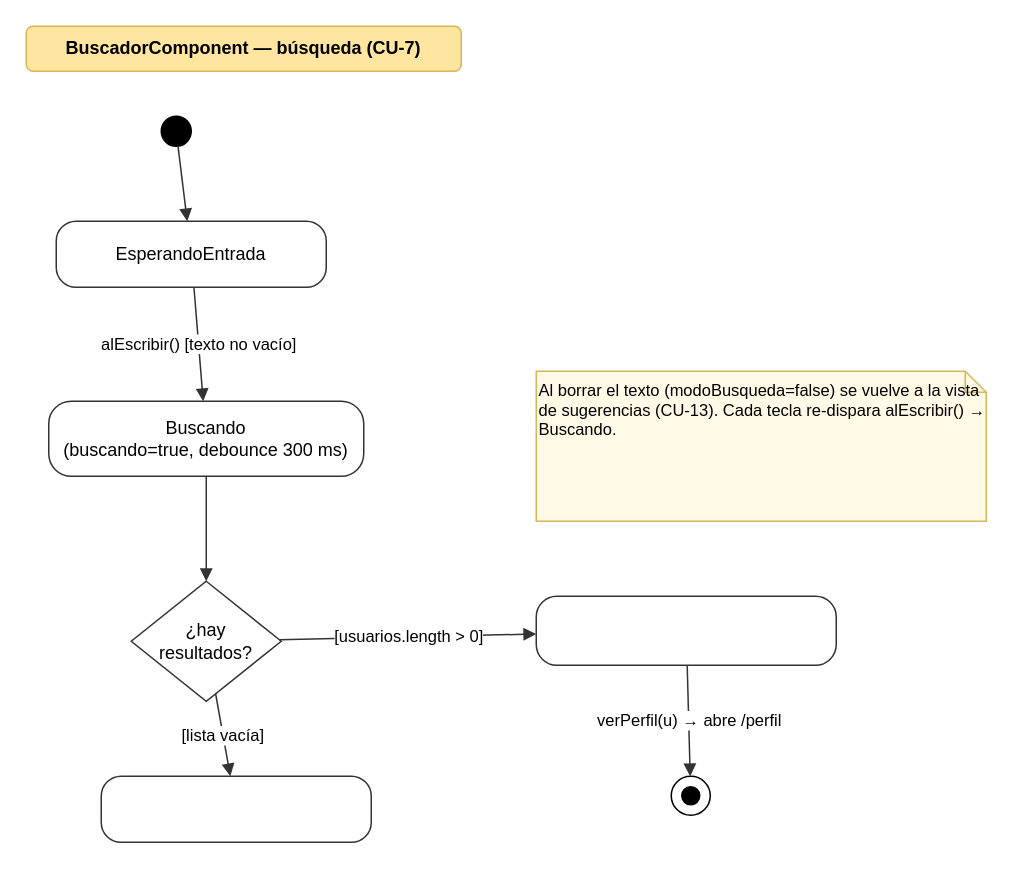
Some shapes in this 1013 by 869 pixel diagram are drawn without their labels. Each missing label, with the centre of its shape:
MostrandoResultados: (x=685, y=630)
SinResultados: (x=235, y=808)
